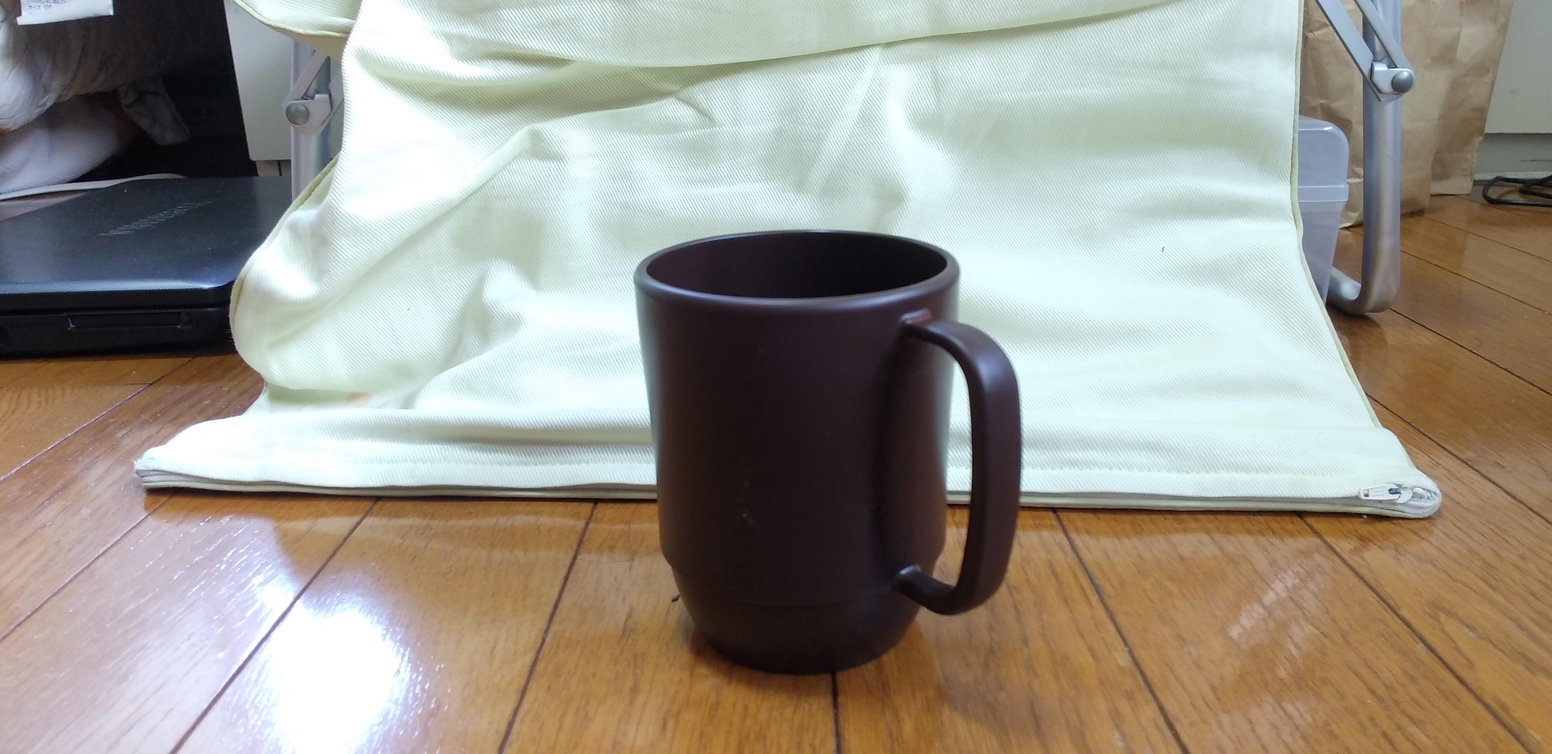mug-real100-3d100: (634, 230, 1022, 673)
